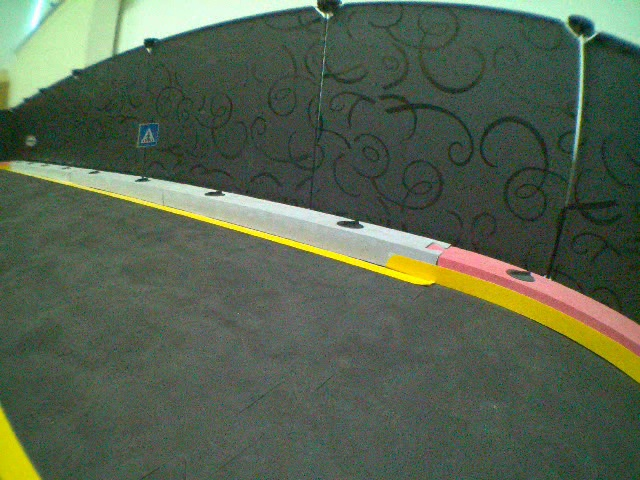crossing: (134, 121, 160, 147)
